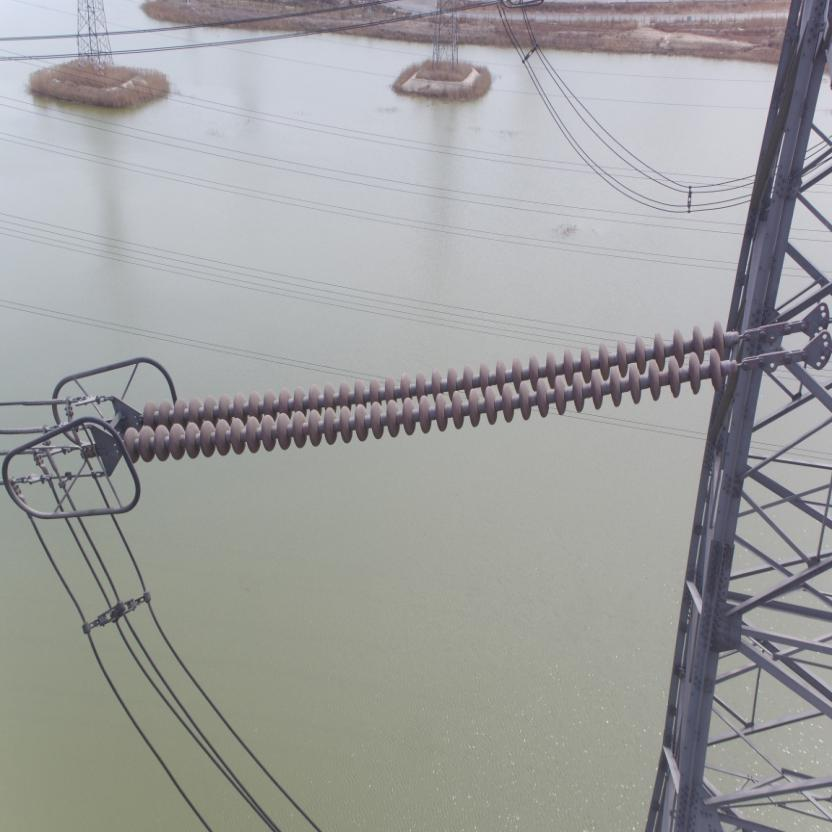insulator: (108, 318, 778, 465)
